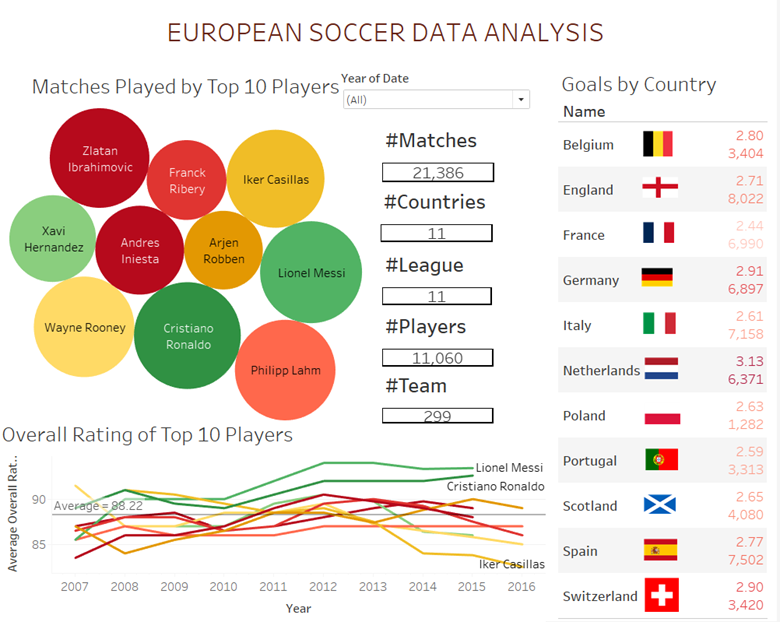

The page's visual inventory and layout, read from the dashboard file:
{"tool":"tableau","page":{"name":"Dashboard 1","canvas":[1000,1000],"units":"permille","ordinal":0},"visuals":[{"type":"text","box":[4.8,9.4,990.3,46.3]},{"type":"worksheet","title":"Goals by Country","mark":"Automatic","rows":["name"],"box":[785.7,55.7,209.5,934.9]},{"type":"worksheet","title":"Matches Played by Top 10","mark":"Circle","box":[4.2,64.6,304.8,596.9]},{"type":"filter","title":"Matches Played by Top 10","param":"[federated.1y6dqpq1el5nnj19mw1gs0ai5nki].[yr:date:ok]","box":[315,85.8,441.2,103.4]},{"type":"image","param":"Image/belgium.png","box":[861.8,152.8,20.5,35.2]},{"type":"image","param":"Image/england.png","box":[862.4,195.1,19.9,31.7]},{"type":"worksheet","title":"#Players","mark":"Automatic","box":[641.5,196.2,102,98.7]},{"type":"worksheet","title":"#Countries","mark":"Automatic","box":[330.7,197.4,102.6,101.1]},{"type":"worksheet","title":"#League","mark":"Automatic","box":[485.8,197.4,102,98.7]},{"type":"image","param":"Image/france.png","box":[863,235,19.3,24.7]},{"type":"image","param":"Image/germany.png","box":[861.8,275,22.3,34.1]},{"type":"image","param":"Image/italy.png","box":[862.4,314.9,21.7,30.6]},{"type":"worksheet","title":"#Team","mark":"Automatic","box":[408.6,341.9,105.6,103.4]},{"type":"worksheet","title":"#Matches","mark":"Automatic","box":[565.5,341.9,102.6,103.4]},{"type":"image","param":"Image/netherlands.png","box":[863,352.5,21.7,36.4]},{"type":"image","param":"Image/poland.png","box":[863,394.8,22.9,30.6]},{"type":"image","param":"Image/portugal.png","box":[863.6,433.6,22.3,31.7]},{"type":"worksheet","title":"Preferred Foot","mark":"Automatic","rows":["preferred_foot"],"cols":["player_api_id"],"box":[302.4,472.4,467.1,177.4]},{"type":"image","param":"Image/scotland.png","box":[863.6,475.9,22.9,43.5]},{"type":"image","param":"Image/spain.png","box":[864.2,513.5,22.3,34.1]},{"type":"image","param":"Image/switzerland.png","box":[867.8,553.5,23.5,28.2]},{"type":"worksheet","title":"Sheet 9","mark":"Area","rows":["home_team_goals","away_team_goals"],"cols":["name"],"box":[665.7,611.1,333.1,390.1]},{"type":"worksheet","title":"Overall Rating","mark":"Automatic","rows":["overall_rating"],"cols":["date (player_attributes_dim)"],"box":[1.2,620.5,624,378.4]}]}

Visuals, with their boxes on the dashboard's canvas, which has no fixed pixel size, in thousandths of its width and height (x1, y1, x2, y2). These are canvas units, not pixel positions in the 780x622 screenshot, which may show the page scaled, cropped or inside an application window:
text: pyautogui.locateOnScreen(5, 9, 995, 56)
"Goals by Country" worksheet: pyautogui.locateOnScreen(786, 56, 995, 991)
"Matches Played by Top 10" worksheet (Circle marks): pyautogui.locateOnScreen(4, 65, 309, 662)
"Matches Played by Top 10" filter: pyautogui.locateOnScreen(315, 86, 756, 189)
image: pyautogui.locateOnScreen(862, 153, 882, 188)
image: pyautogui.locateOnScreen(862, 195, 882, 227)
"#Players" worksheet: pyautogui.locateOnScreen(642, 196, 744, 295)
"#Countries" worksheet: pyautogui.locateOnScreen(331, 197, 433, 298)
"#League" worksheet: pyautogui.locateOnScreen(486, 197, 588, 296)
image: pyautogui.locateOnScreen(863, 235, 882, 260)
image: pyautogui.locateOnScreen(862, 275, 884, 309)
image: pyautogui.locateOnScreen(862, 315, 884, 346)
"#Team" worksheet: pyautogui.locateOnScreen(409, 342, 514, 445)
"#Matches" worksheet: pyautogui.locateOnScreen(566, 342, 668, 445)
image: pyautogui.locateOnScreen(863, 352, 885, 389)
image: pyautogui.locateOnScreen(863, 395, 886, 425)
image: pyautogui.locateOnScreen(864, 434, 886, 465)
"Preferred Foot" worksheet: pyautogui.locateOnScreen(302, 472, 770, 650)
image: pyautogui.locateOnScreen(864, 476, 886, 519)
image: pyautogui.locateOnScreen(864, 514, 886, 548)
image: pyautogui.locateOnScreen(868, 554, 891, 582)
"Sheet 9" worksheet (Area marks): pyautogui.locateOnScreen(666, 611, 999, 1001)
"Overall Rating" worksheet: pyautogui.locateOnScreen(1, 620, 625, 999)
